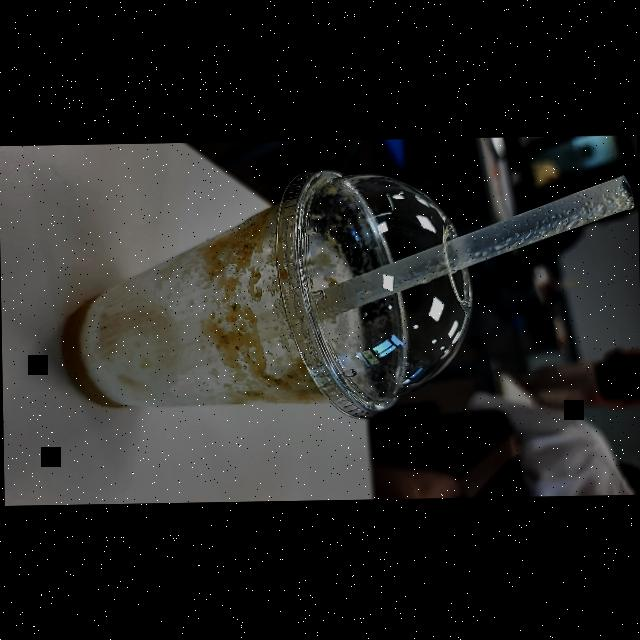plastic_cup: (56, 180, 371, 420)
plastic_cup_lid: (268, 162, 474, 422)
straw: (285, 173, 639, 334)
